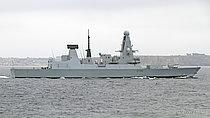MIL_Ship: (9, 29, 201, 78)
